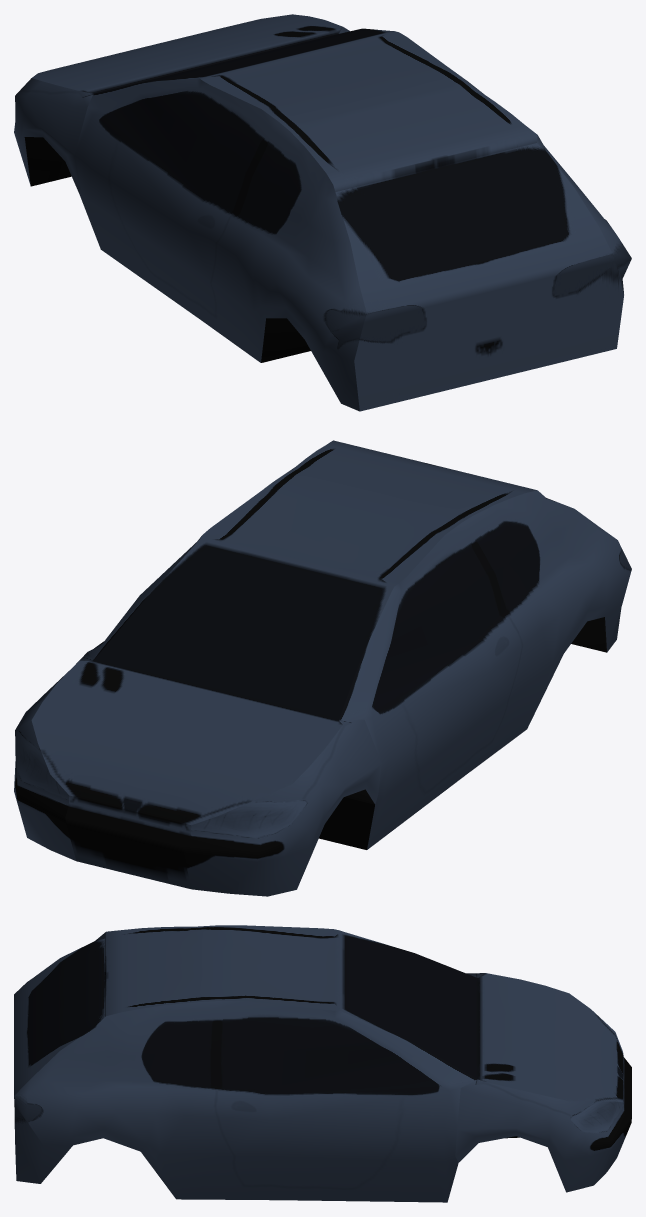
File: lp-compacte-verte.glb
3 renders of one model, top to bottom at view 1: azimuth 30°, elevation 25°; view 2: azimuth 150°, elevation 25°; view 3: azimuth 270°, elevation 25°, orthographic. The views are drawn at different scales.
Visible parts, largest first — view 1: Object_42; view 2: Object_42; view 3: Object_42.
Part boxes in pixels (x1,y1,x2,y2): Object_42: (14,14,631,411); Object_42: (14,440,631,896); Object_42: (14,925,631,1202).
Bounding box in the file's own units: 2.36 × 1.58 × 4.81.
1 material, 1 textured.
